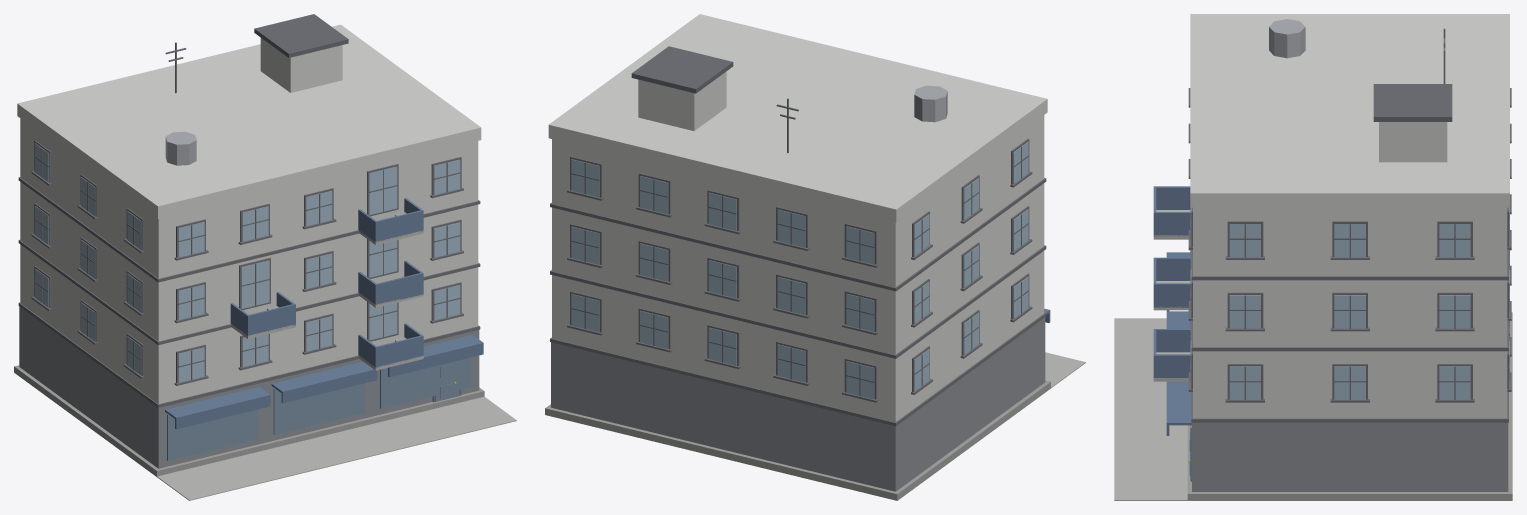
File: Apartman_03.glb
The picture shows the model from 3 angles, left to right: view 1: azimuth 30°, elevation 25°; view 2: azimuth 150°, elevation 25°; view 3: azimuth 270°, elevation 25°; orthographic projection. The views are drawn at different scales.
Visible parts, largest first — view 1: Apartman_03; view 2: Apartman_03; view 3: Apartman_03.
Part boxes in pixels (x1,y1,x2,y2): Apartman_03: [14, 14, 516, 500]; Apartman_03: [545, 14, 1085, 500]; Apartman_03: [1114, 14, 1512, 500].
Bounding box in the file's own units: 16.4 × 15.3 × 15.2.
